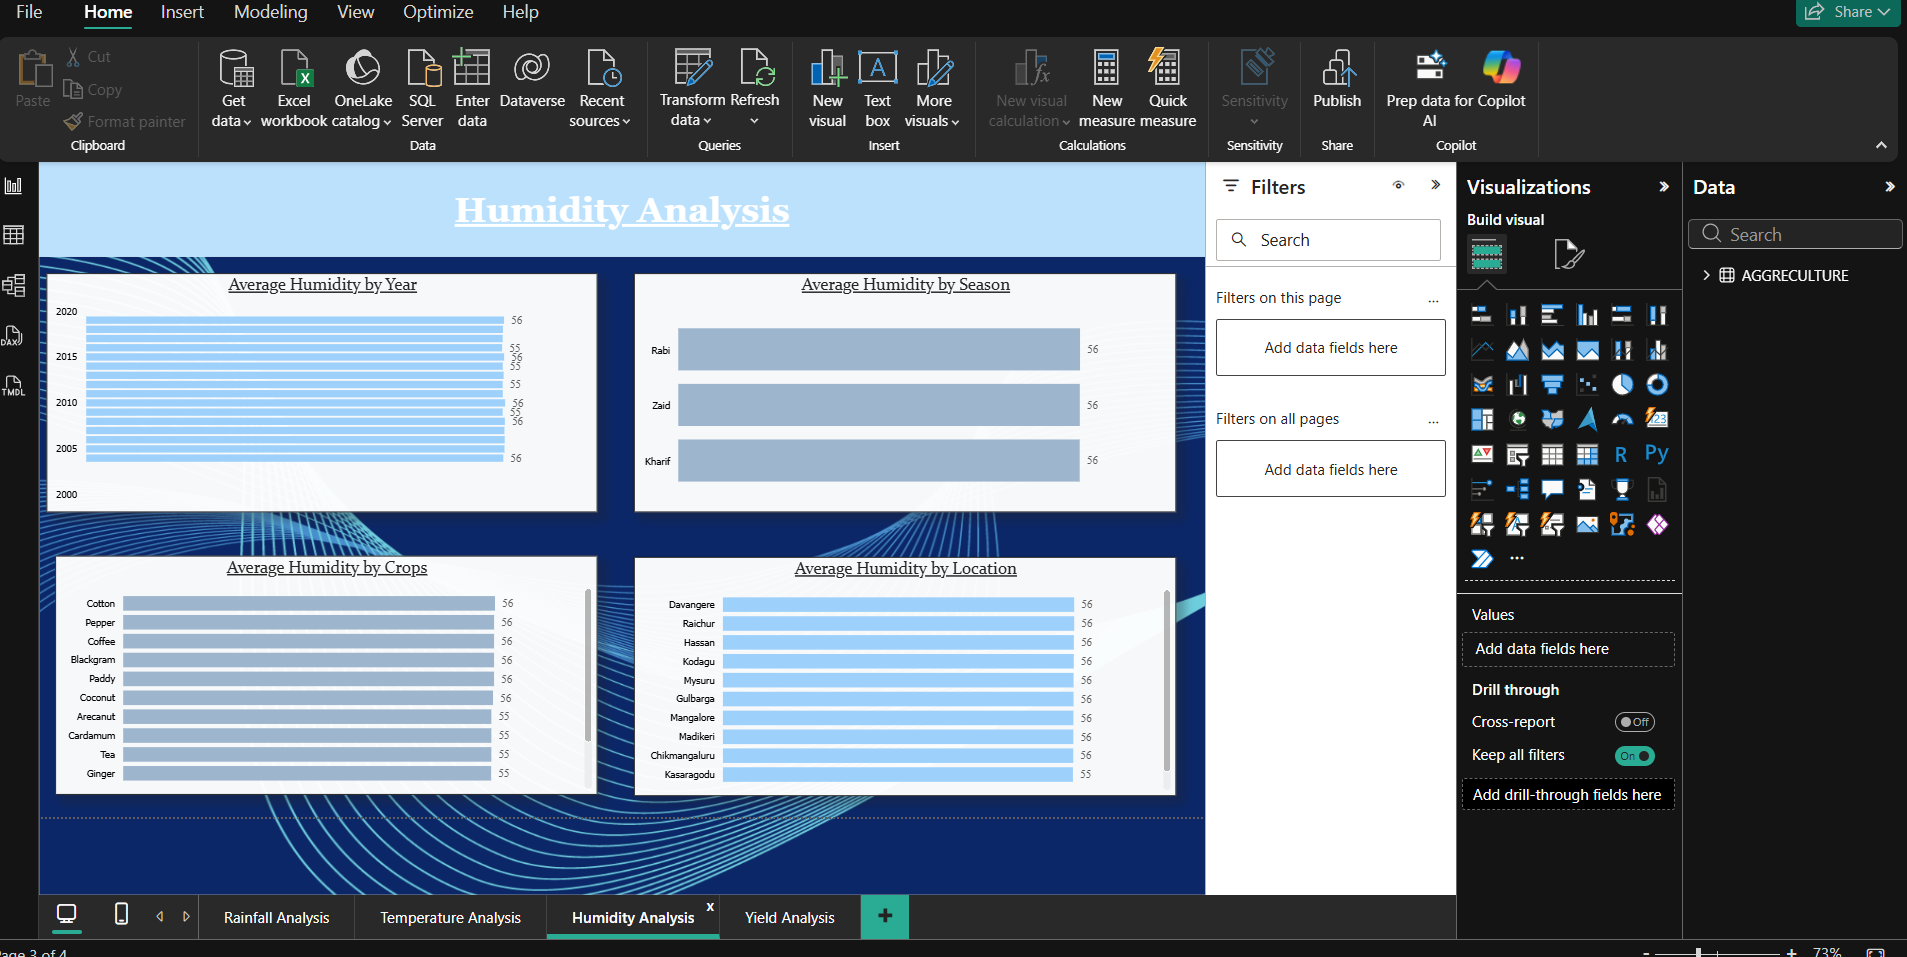

Layout of this report page (visuals, bound fields, positions):
{"tool":"powerbi","page":{"name":"Humidity Analysis","canvas":[1280,720],"ordinal":2},"visuals":[{"type":"shape","box":[0,0,1280.3,104.3],"z":0},{"type":"barChart","title":"Average Humidity by Year","fields":{"Category":["AGGRECULTURE.YEAR"],"Y":["Avg(AGGRECULTURE.HUMIDITY)"]},"box":[8.2,122.1,605.1,262.1],"z":1000},{"type":"barChart","title":"Average Humidity by Season","fields":{"Category":["AGGRECULTURE.SEASON"],"Y":["Avg(AGGRECULTURE.HUMIDITY)"]},"box":[653.2,122.1,595.5,262.1],"z":2000},{"type":"barChart","title":"Average Humidity by Crops","fields":{"Category":["AGGRECULTURE.CROPS"],"Y":["Avg(AGGRECULTURE.HUMIDITY)"]},"box":[17.8,432.2,595.5,262.1],"z":3000},{"type":"barChart","title":"Average Humidity by Location","fields":{"Category":["AGGRECULTURE.LOCATION"],"Y":["Avg(AGGRECULTURE.HUMIDITY)"]},"box":[653.2,433.6,595.5,262.1],"z":4000}]}

Visuals, with their boxes on the page's 1280x720 design canvas (x1, y1, x2, y2). These are canvas units, not pixel positions in the 1907x957 screenshot, which may show the page scaled, cropped or inside an application window:
shape: Rect(0, 0, 1280, 104)
"Average Humidity by Year" barChart: Rect(8, 122, 613, 384)
"Average Humidity by Season" barChart: Rect(653, 122, 1249, 384)
"Average Humidity by Crops" barChart: Rect(18, 432, 613, 694)
"Average Humidity by Location" barChart: Rect(653, 434, 1249, 696)
